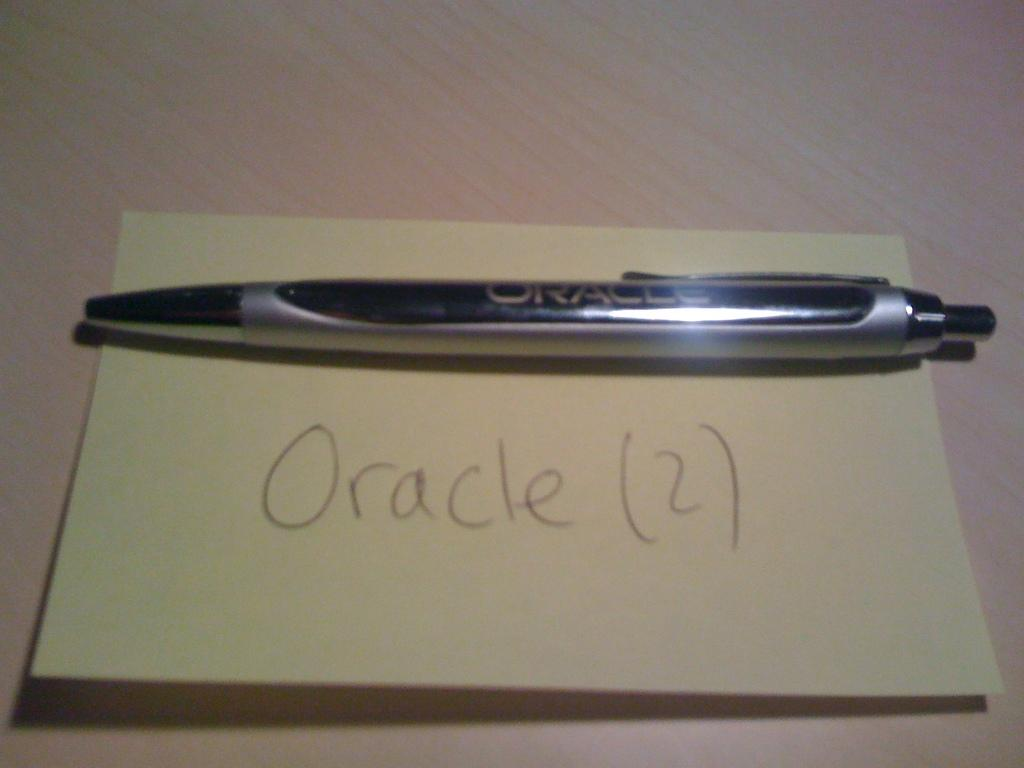pen: (81, 269, 998, 360)
